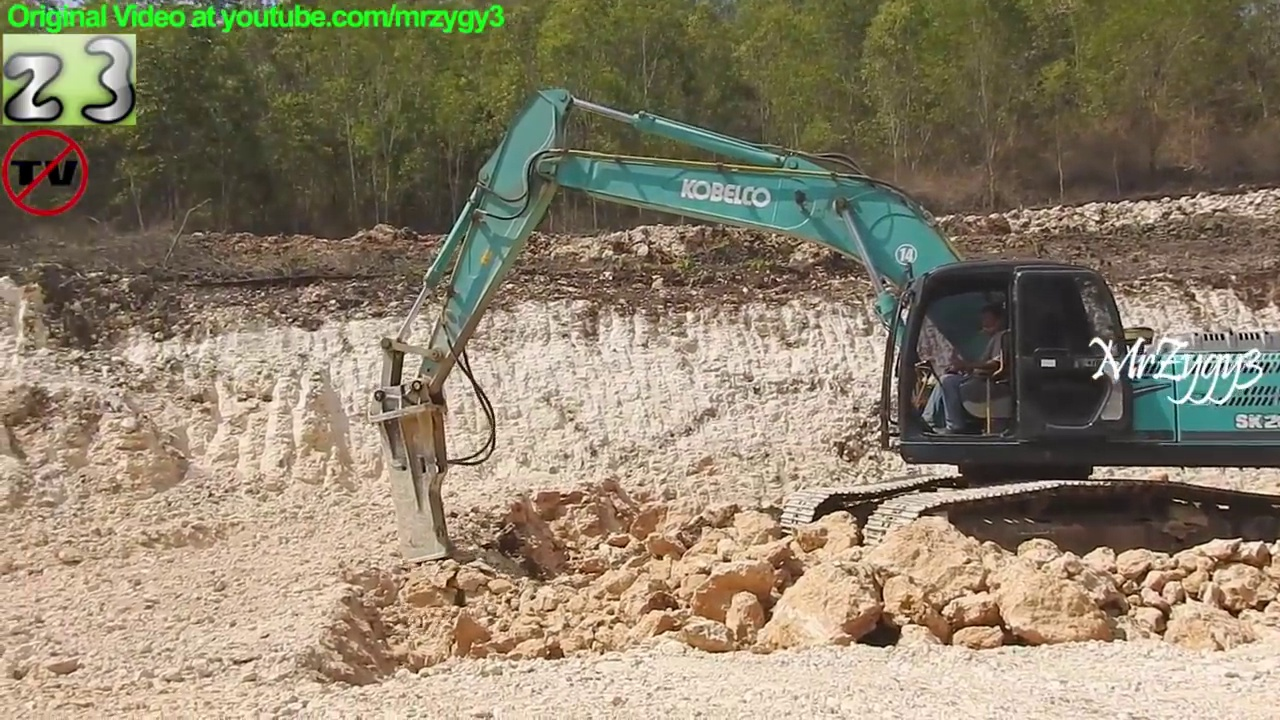excavator breaker: (365, 85, 1280, 599)
